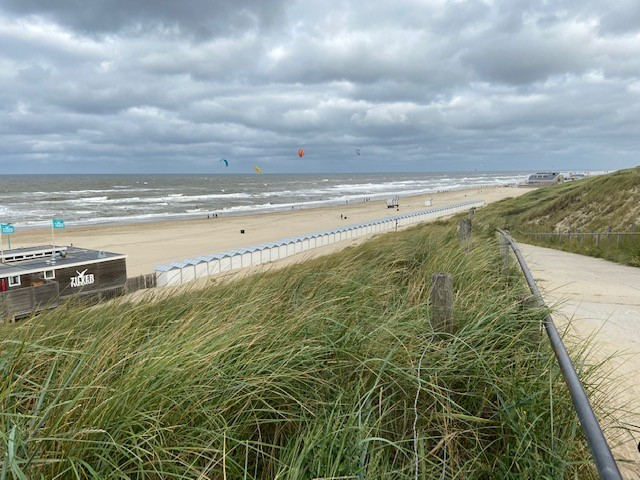pad: (497, 226, 640, 453)
